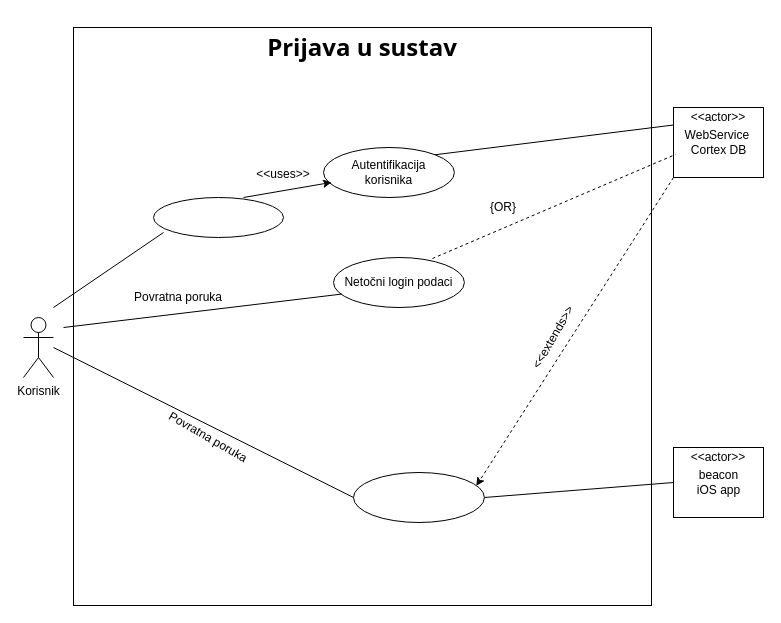
The diagram is 781 pixels wide and 623 high, and some of its shapes have lost their labels. The centre of each missing label's shape, as x and y in pixels:
"Login" belongs at [218,217].
"Pristup odobren" belongs at [418,497].
